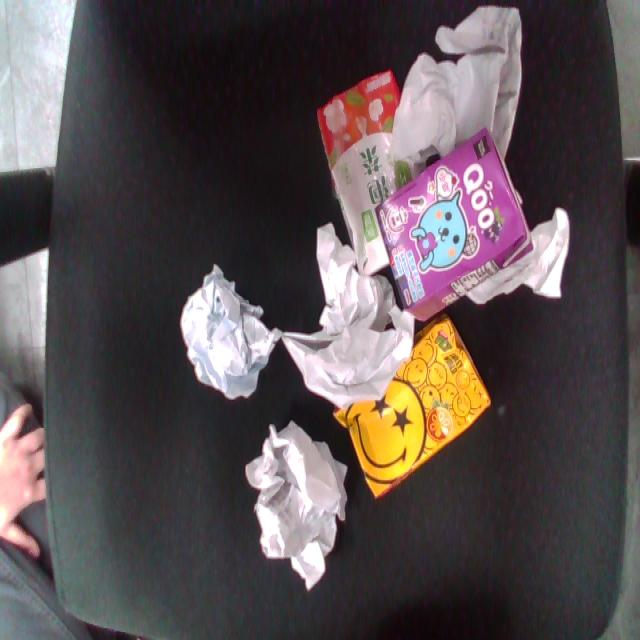juicebox: (330, 113, 571, 338), (303, 304, 523, 512), (293, 59, 460, 290)
paper: (212, 196, 461, 450), (142, 243, 312, 415), (380, 0, 534, 181), (229, 419, 362, 604)
